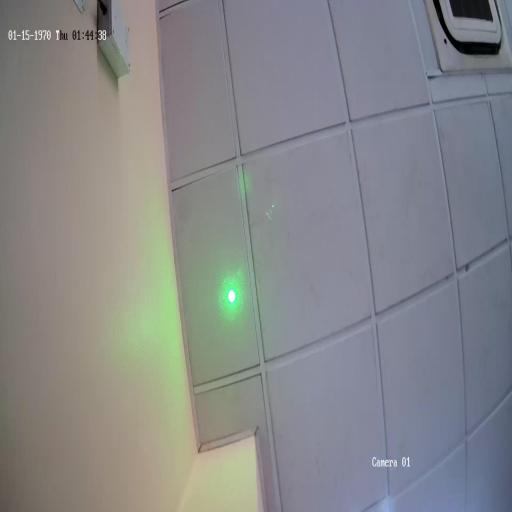laser: (224, 284, 238, 308)
